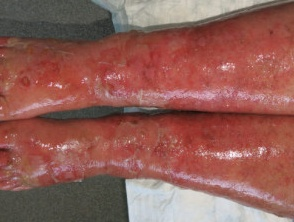SJS-TEN: (0, 5, 294, 147), (0, 110, 294, 218)
